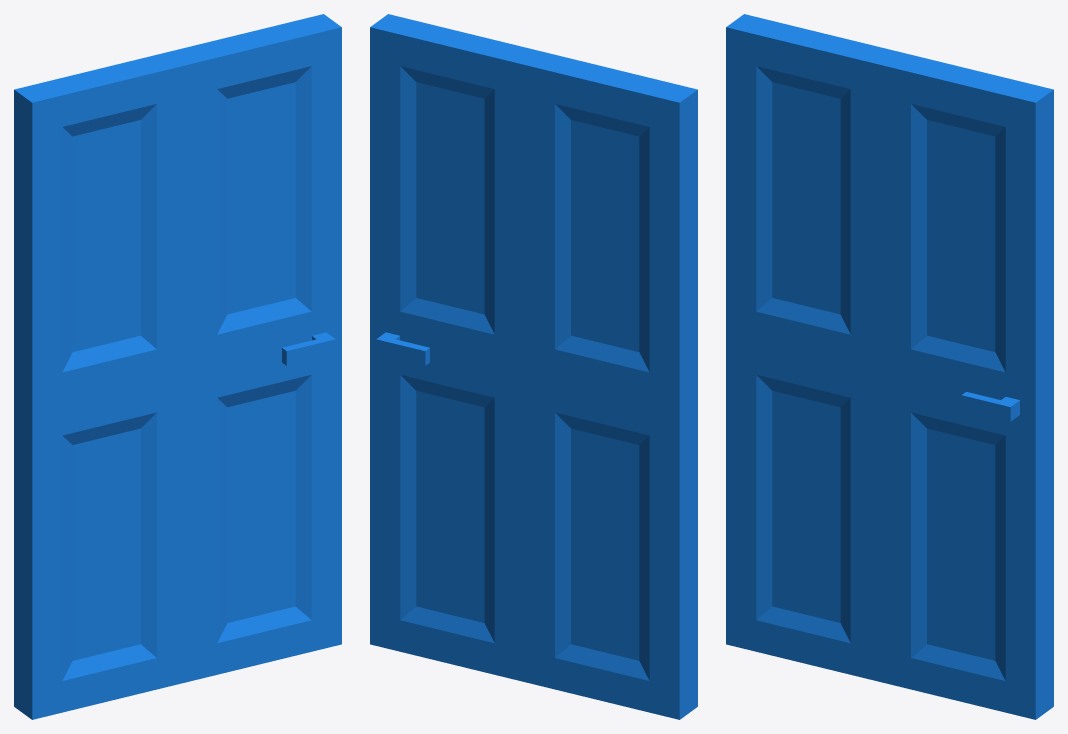
Rendered from Proto_Building_Block_Door_01.fbx.
3 renders of one model, left to right at view 1: azimuth 30°, elevation 25°; view 2: azimuth 150°, elevation 25°; view 3: azimuth 330°, elevation 25°, orthographic.
Parts seen in each view (by area): view 1: Proto_Building_Block_Door_01; view 2: Proto_Building_Block_Door_01; view 3: Proto_Building_Block_Door_01.
Part boxes in pixels (<box>): Proto_Building_Block_Door_01: <box>14,14,341,719</box>; Proto_Building_Block_Door_01: <box>370,14,697,719</box>; Proto_Building_Block_Door_01: <box>726,14,1053,719</box>.
Bounding box in the file's own units: 0.927 × 1.77 × 0.1926.
